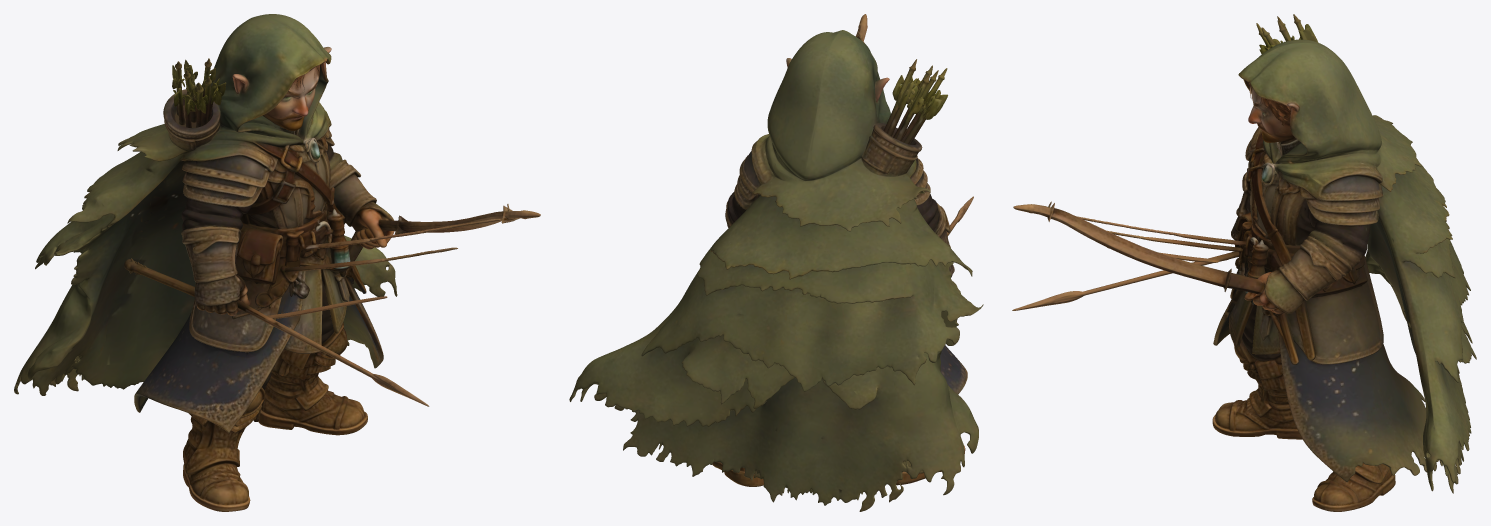
The model's file is halfling_ranger_full_male_01.glb.
The picture shows the model from 3 angles, left to right: view 1: azimuth 30°, elevation 25°; view 2: azimuth 150°, elevation 25°; view 3: azimuth 270°, elevation 25°; orthographic projection. The views are drawn at different scales.
Parts seen in each view (by area): view 1: material; view 2: material; view 3: material.
Boxes of the visible parts, x1=… form: material: x1=14, y1=14, x2=540, y2=511; material: x1=569, y1=14, x2=983, y2=511; material: x1=1012, y1=14, x2=1476, y2=511.
Bounding box in the file's own units: 0.7652 × 0.828 × 0.8282.
Materials: 1 (1 with a texture image).
